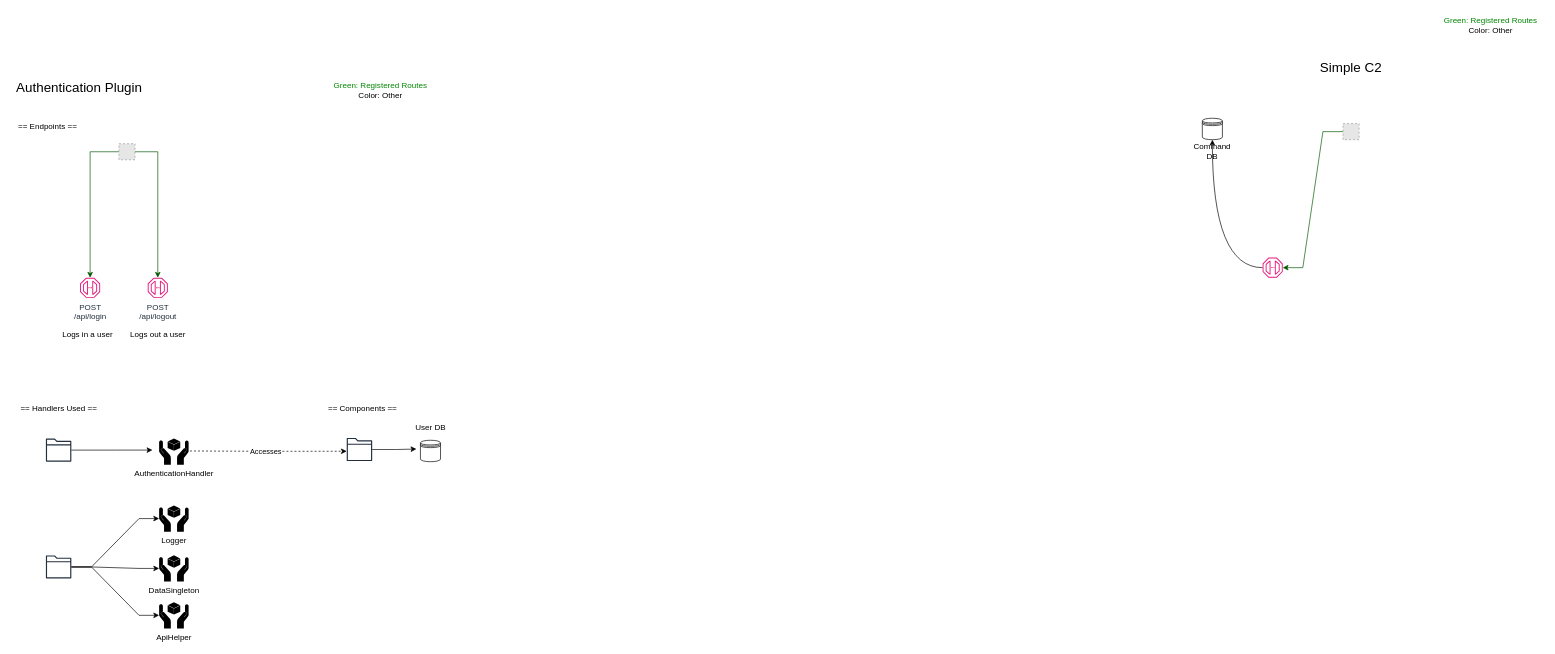
The diagram is 1555 pixels wide and 654 high, and some of its shapes have lost their labels. Grey dashed boxes stand in for pictures. Each missing label, with the centre of its shape:
/api/simplec2/whatever: (x=1272, y=267)
DataBases: (x=359, y=449)
SecurityEngine: (x=58, y=449)
Utils: (x=58, y=566)
